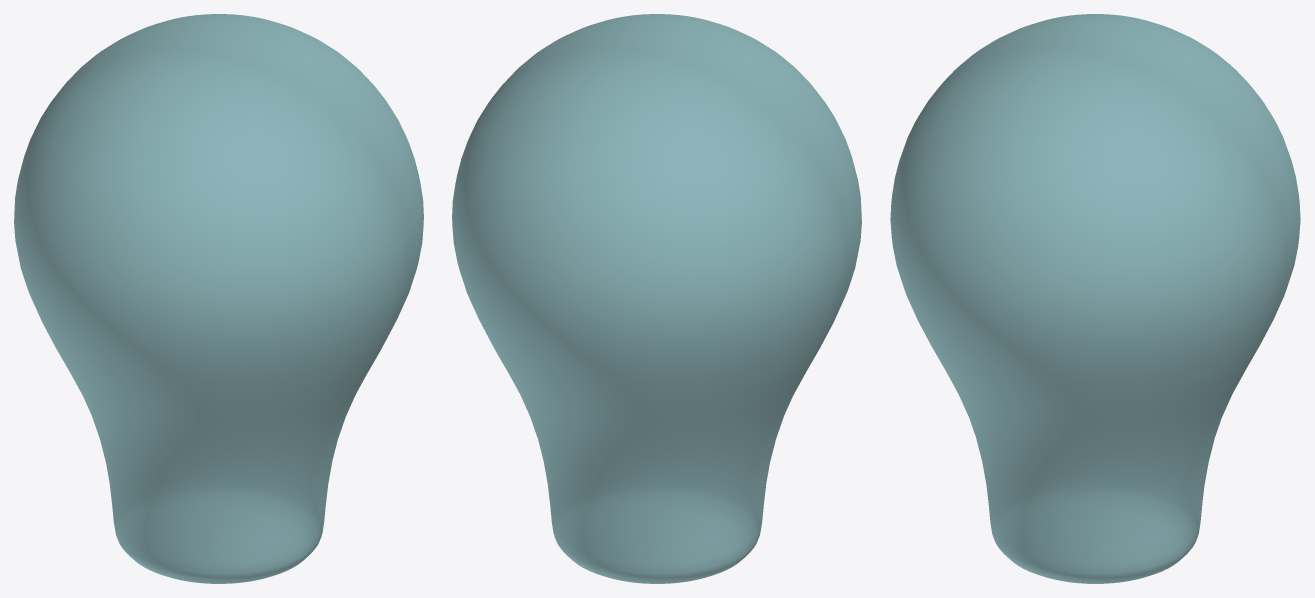
The model's file is lightBulbGlass.obj.
3 views of the same model, side by side, from view 1: azimuth 30°, elevation 25°; view 2: azimuth 150°, elevation 25°; view 3: azimuth 270°, elevation 25° (orthographic).
Parts seen in each view (by area): view 1: Sphere.001_Sphere.002; view 2: Sphere.001_Sphere.002; view 3: Sphere.001_Sphere.002.
Part boxes in pixels (x1,y1,x2,y2): Sphere.001_Sphere.002: (14,14,423,583); Sphere.001_Sphere.002: (452,14,861,583); Sphere.001_Sphere.002: (890,14,1300,583).
Size of the model in its own units: 1.24 by 1.74 by 1.24.
